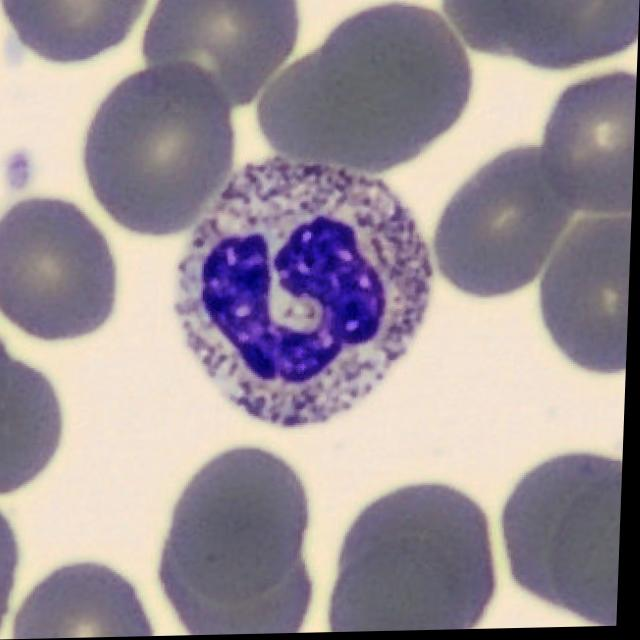Neutrofilo segmentado: (175, 156, 436, 426)
